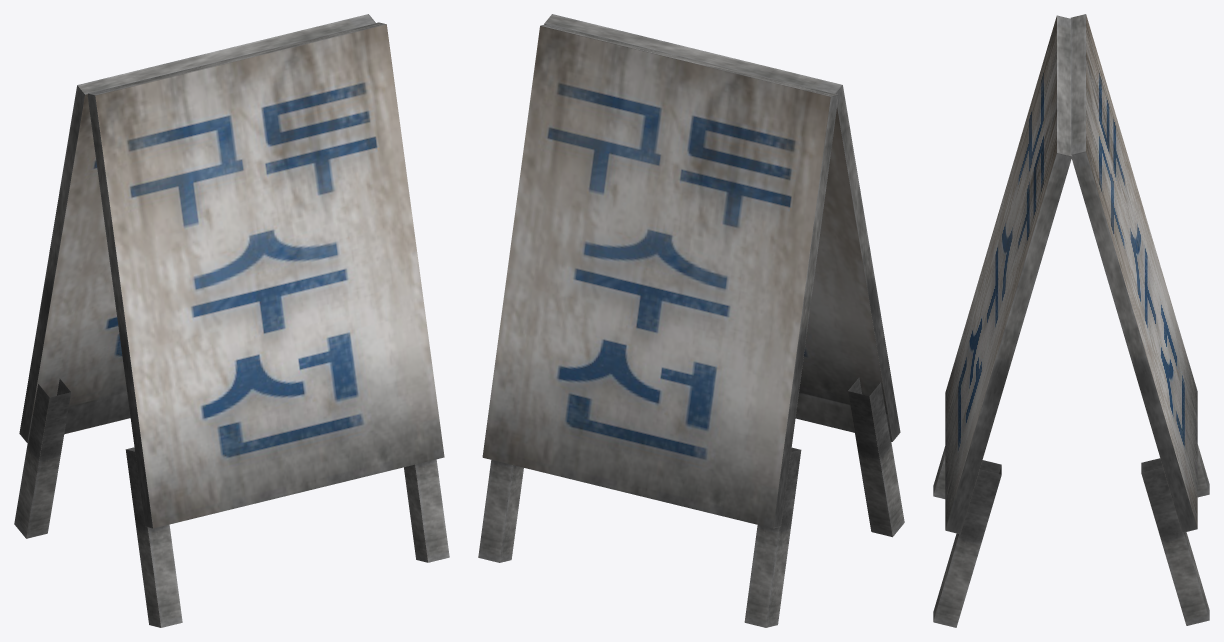
Rendered from gudu_ipganpan.FBX.
3 views of the same model, side by side, from view 1: azimuth 30°, elevation 25°; view 2: azimuth 150°, elevation 25°; view 3: azimuth 270°, elevation 25° (orthographic). The views are drawn at different scales.
Parts seen in each view (by area): view 1: Box003; view 2: Box003; view 3: Box003.
Boxes of the visible parts, x1=… form: Box003: x1=14, y1=14, x2=449, y2=627; Box003: x1=478, y1=14, x2=904, y2=627; Box003: x1=933, y1=14, x2=1209, y2=627.
Size of the model in its own units: 15.29 by 24.41 by 12.86.
1 material, 1 textured.
